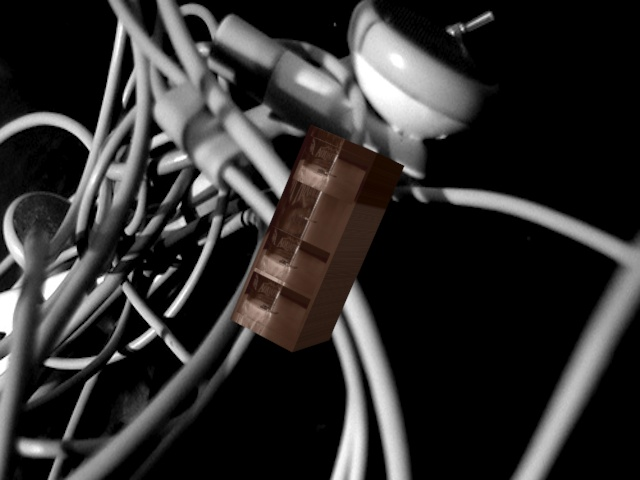file_cabinet: (224, 113, 416, 360)
